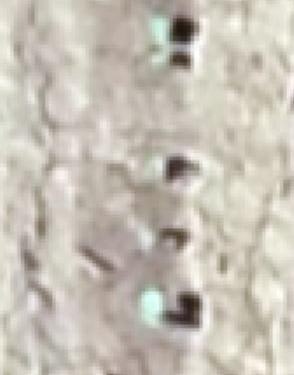cotton: (142, 289, 164, 326), (151, 14, 170, 40), (150, 51, 170, 67)
